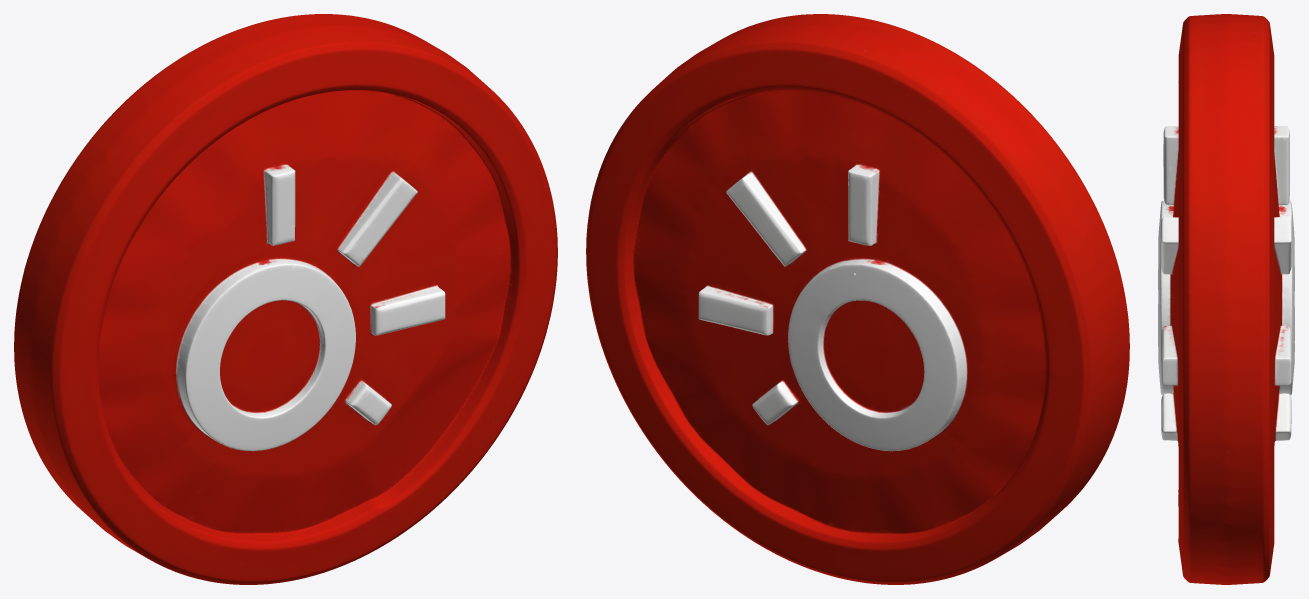
The model's file is Moeda Claro.fbx.
3 renders of one model, left to right at view 1: azimuth 30°, elevation 25°; view 2: azimuth 150°, elevation 25°; view 3: azimuth 270°, elevation 25°, orthographic. The views are drawn at different scales.
Parts seen in each view (by area): view 1: Mesh_0; view 2: Mesh_0; view 3: Mesh_0.
Part boxes in pixels (x1=…): Mesh_0: x1=14, y1=14, x2=557, y2=584; Mesh_0: x1=586, y1=14, x2=1129, y2=584; Mesh_0: x1=1158, y1=14, x2=1294, y2=584.
Bounding box in the file's own units: 190 × 190 × 45.41.
1 material, 1 textured.
